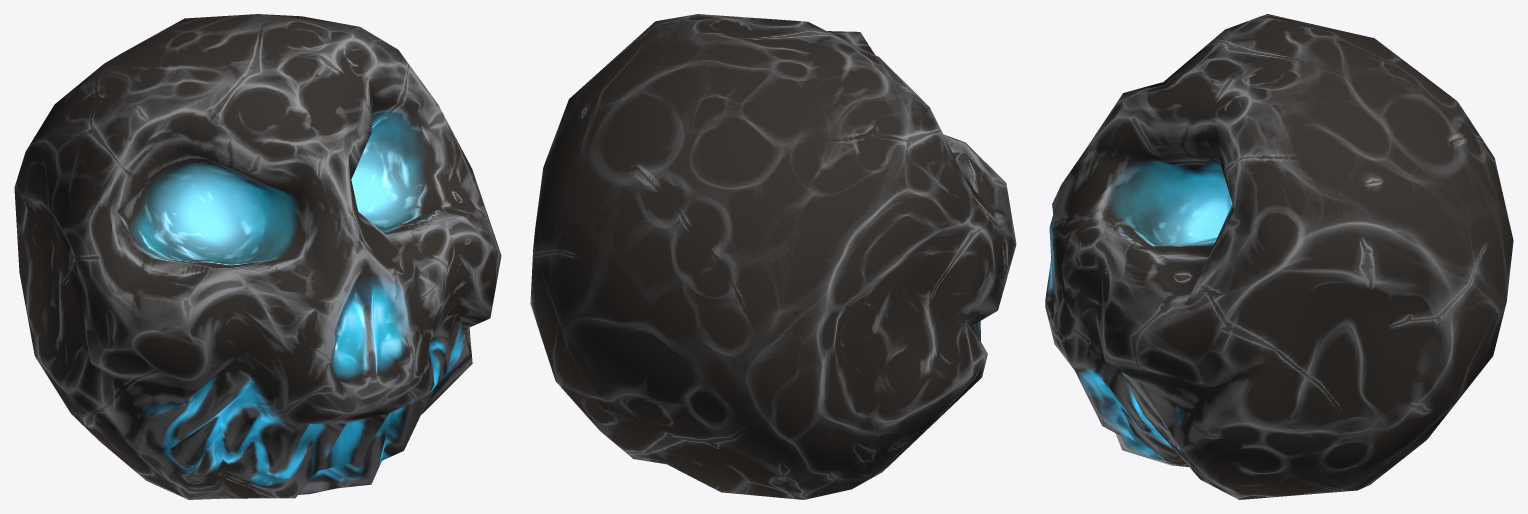
3 renders of one model, left to right at view 1: azimuth 30°, elevation 25°; view 2: azimuth 150°, elevation 25°; view 3: azimuth 270°, elevation 25°, orthographic. The views are drawn at different scales.
Parts seen in each view (by area): view 1: Demonic_Cannon_Ball; view 2: Demonic_Cannon_Ball; view 3: Demonic_Cannon_Ball.
Boxes of the visible parts, x1,y1,x2,y2 form: Demonic_Cannon_Ball: [14, 14, 501, 499]; Demonic_Cannon_Ball: [530, 14, 1016, 499]; Demonic_Cannon_Ball: [1045, 14, 1513, 499].
Bounding box in the file's own units: 27.97 × 29.03 × 29.59.
1 material, 1 textured.
